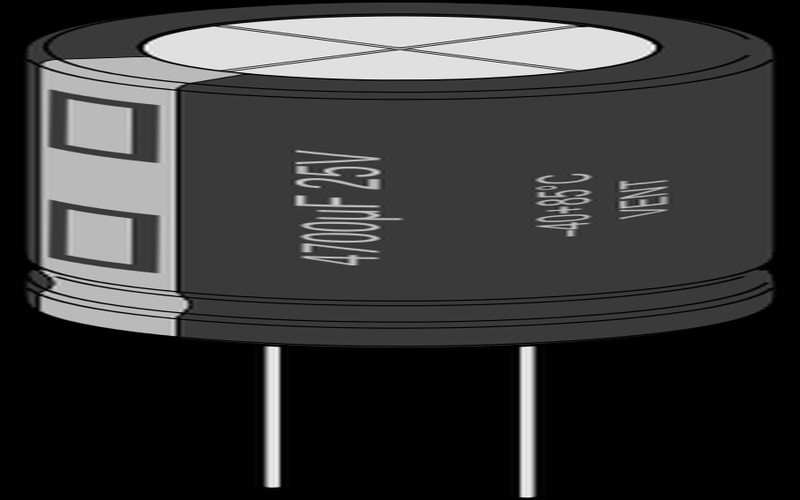Capacitor: (4, 0, 800, 500)
